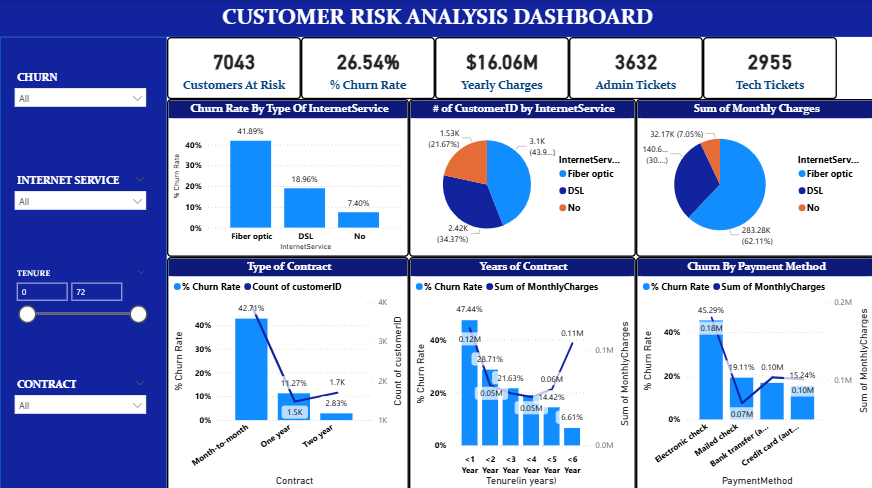

The dashboard page shown, as its layout file describes it:
{"tool":"powerbi","page":{"name":"Customer Risk Analysis","canvas":[1280,720],"ordinal":1},"visuals":[{"type":"textbox","box":[0,0,1280.5,54.1],"z":0},{"type":"shape","box":[0,54.1,244.4,665.9],"z":1000},{"type":"slicer","fields":{"Values":["Churn.Churn"]},"box":[11.7,98,212.2,92.2],"z":2000},{"type":"slicer","fields":{"Values":["Churn.InternetService"]},"box":[11.7,248.8,212.2,92.2],"z":3000},{"type":"slicer","fields":{"Values":["Churn.tenure"]},"box":[11.7,387.8,212.2,99.5],"z":4000},{"type":"slicer","fields":{"Values":["Churn.Contract"]},"box":[11.7,547.3,212.2,95.1],"z":5000},{"type":"card","fields":{"Values":["CountNonNull(Churn.customerID)"]},"box":[244.4,54.1,196.1,90.7],"z":6000},{"type":"card","fields":{"Values":["Churn.% Churn Rate"]},"box":[440.5,54.1,196.1,90.7],"z":7000},{"type":"card","fields":{"Values":["Sum(Churn.TotalCharges)"]},"box":[636.6,54.1,196.1,90.7],"z":8000},{"type":"card","fields":{"Values":["Sum(Churn.numAdminTickets)"]},"box":[832.7,54.1,196.1,90.7],"z":9000},{"type":"card","fields":{"Values":["Sum(Churn.numTechTickets)"]},"box":[1028.8,54.1,196.1,90.7],"z":10000},{"type":"clusteredColumnChart","title":"Churn Rate By Type Of InternetService","fields":{"Category":["Churn.InternetService"],"Y":["Churn.% Churn Rate"]},"box":[244.4,144.9,354.1,231.2],"z":11000},{"type":"pieChart","title":"# of CustomerID by InternetService","fields":{"Category":["Churn.InternetService"],"Y":["CountNonNull(Churn.customerID)"]},"box":[598.5,144.9,332.2,231.2],"z":12000},{"type":"pieChart","title":"Sum of Monthly Charges","fields":{"Category":["Churn.InternetService"],"Y":["Sum(Churn.MonthlyCharges)"]},"box":[930.7,144.9,349.8,231.2],"z":13000},{"type":"lineStackedColumnComboChart","title":"Type of Contract","fields":{"Category":["Churn.Contract"],"Y":["Churn.% Churn Rate"],"Y2":["CountNonNull(Churn.customerID)"]},"box":[244,376,354,344],"z":14000},{"type":"lineStackedColumnComboChart","title":"Years of Contract","fields":{"Category":["Churn.Tenure(in years)"],"Y":["Churn.% Churn Rate"],"Y2":["Sum(Churn.MonthlyCharges)"]},"box":[599,376,332,344],"z":15000},{"type":"lineStackedColumnComboChart","title":"Churn By Payment Method","fields":{"Category":["Churn.PaymentMethod"],"Y2":["Sum(Churn.MonthlyCharges)"],"Y":["Churn.% Churn Rate"]},"box":[931,376,349,344],"z":16000}]}

Visuals, with their boxes in screenshot pixels (x1, y1, x2, y2), scaled from the page's 1280x720 canvas onto the 872x488 screenshot:
textbox: (0, 0, 871, 37)
shape: (0, 37, 166, 487)
slicer - Churn.Churn: (8, 66, 153, 129)
slicer - Churn.InternetService: (8, 169, 153, 231)
slicer - Churn.tenure: (8, 263, 153, 330)
slicer - Churn.Contract: (8, 371, 153, 435)
card - CountNonNull(Churn.customerID): (166, 37, 300, 98)
card - Churn.% Churn Rate: (300, 37, 434, 98)
card - Sum(Churn.TotalCharges): (434, 37, 567, 98)
card - Sum(Churn.numAdminTickets): (567, 37, 701, 98)
card - Sum(Churn.numTechTickets): (701, 37, 834, 98)
"Churn Rate By Type Of InternetService" clusteredColumnChart: (166, 98, 408, 255)
"# of CustomerID by InternetService" pieChart: (408, 98, 634, 255)
"Sum of Monthly Charges" pieChart: (634, 98, 871, 255)
"Type of Contract" lineStackedColumnComboChart: (166, 255, 407, 487)
"Years of Contract" lineStackedColumnComboChart: (408, 255, 634, 487)
"Churn By Payment Method" lineStackedColumnComboChart: (634, 255, 871, 487)
